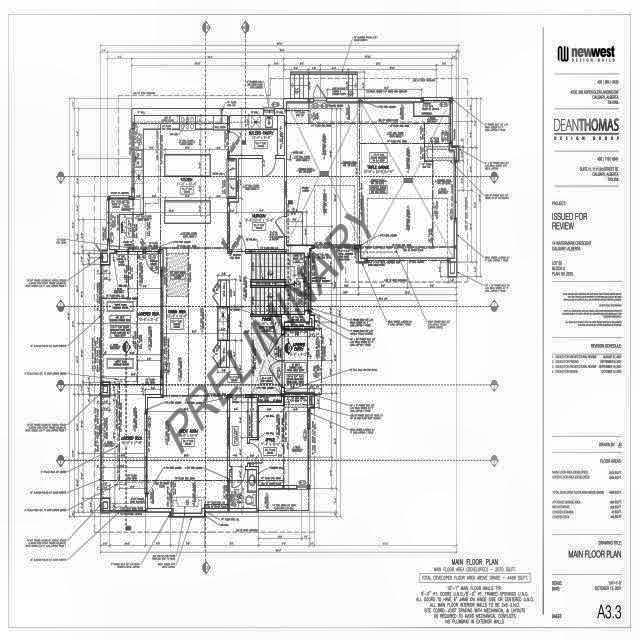room: (250, 397, 307, 485), (230, 159, 284, 250), (230, 115, 284, 155), (229, 470, 256, 509), (308, 74, 348, 98)
